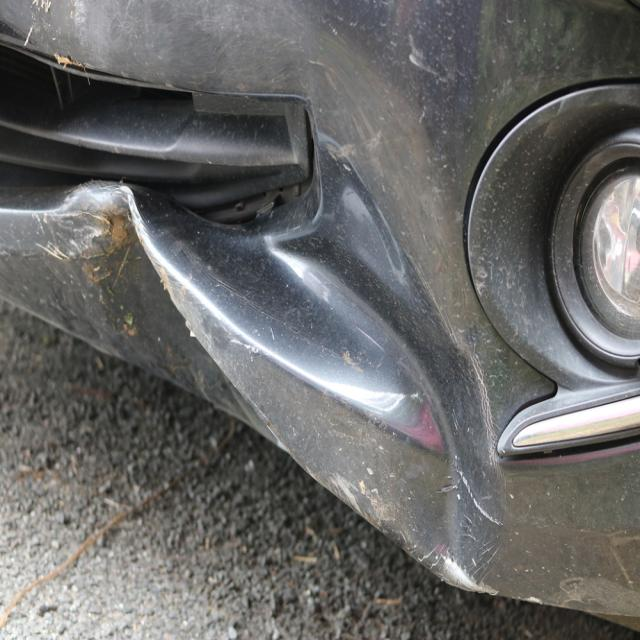Cabossage: (156, 130, 525, 588)
